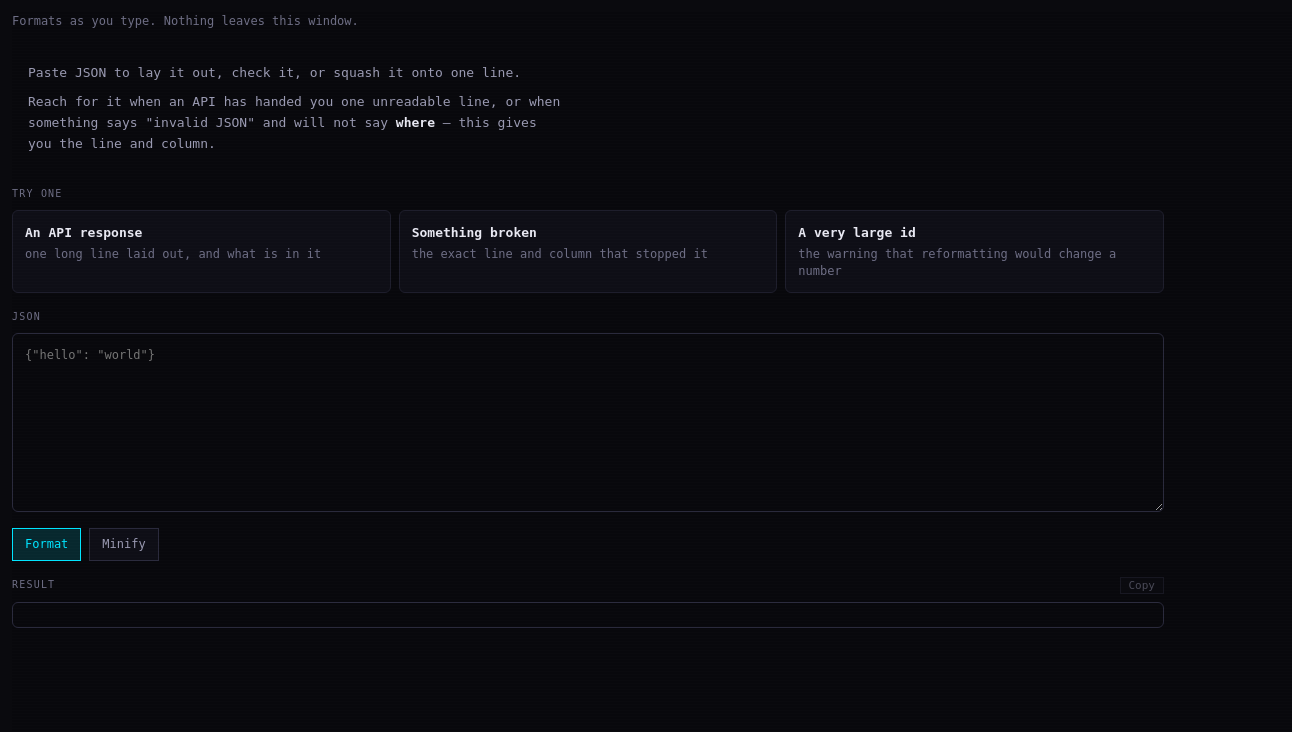
Scenario: JsonTool › minifies as well as formats
Click the text box labelled "JSON" at (588, 423), box [12,333,1164,512]
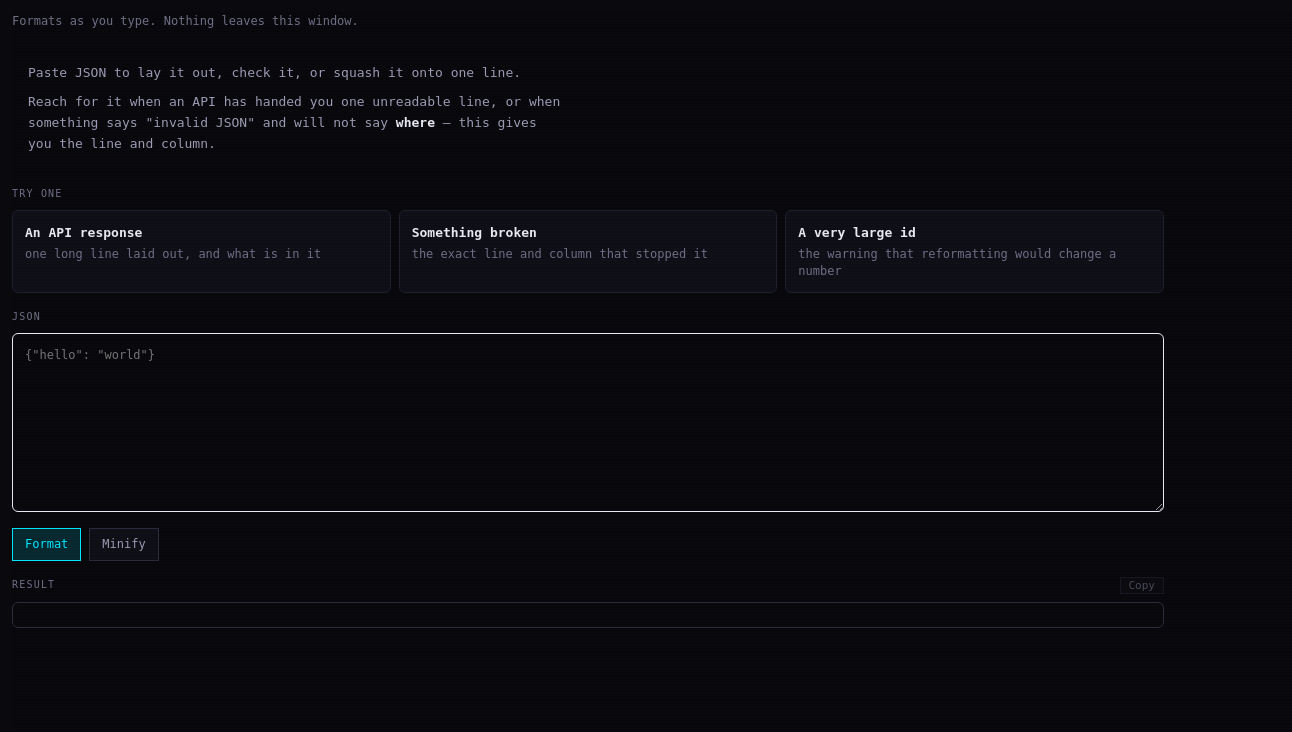
Type keys "{\"a\": 1}"
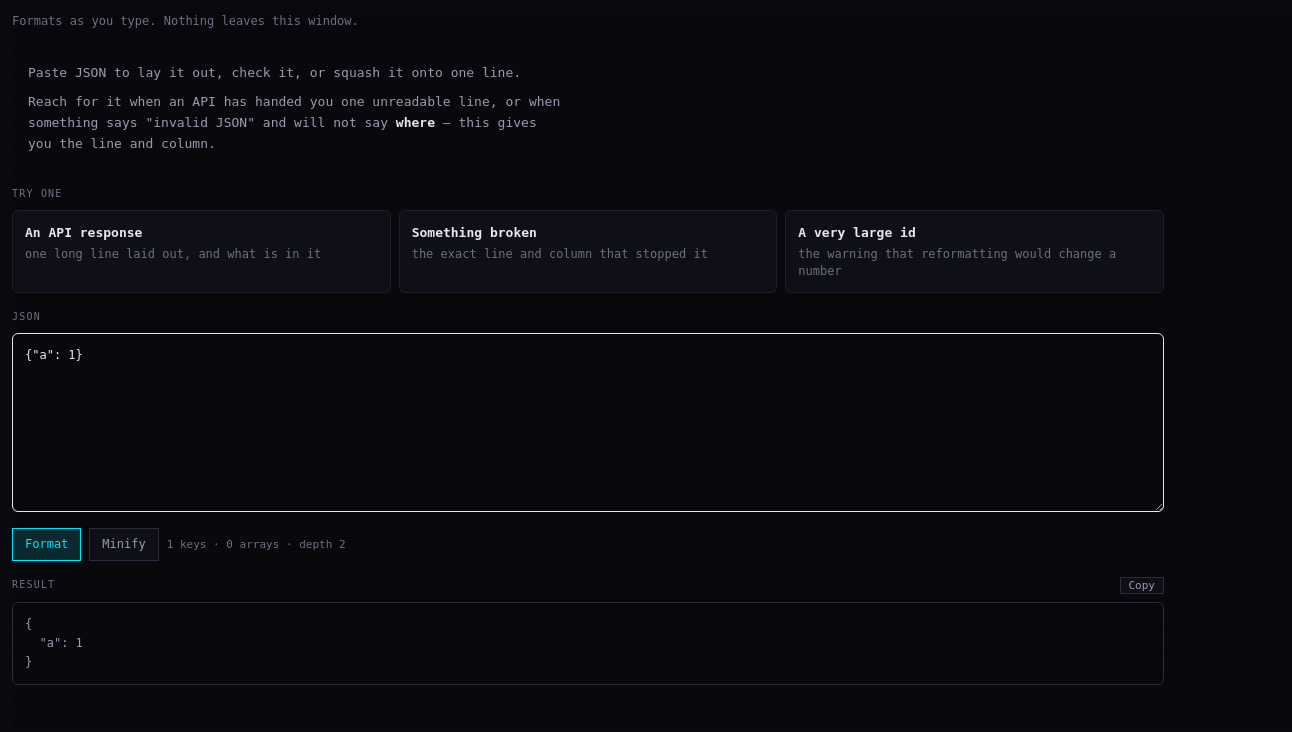
Click the button "Minify" at (124, 544), box [89,528,159,561]
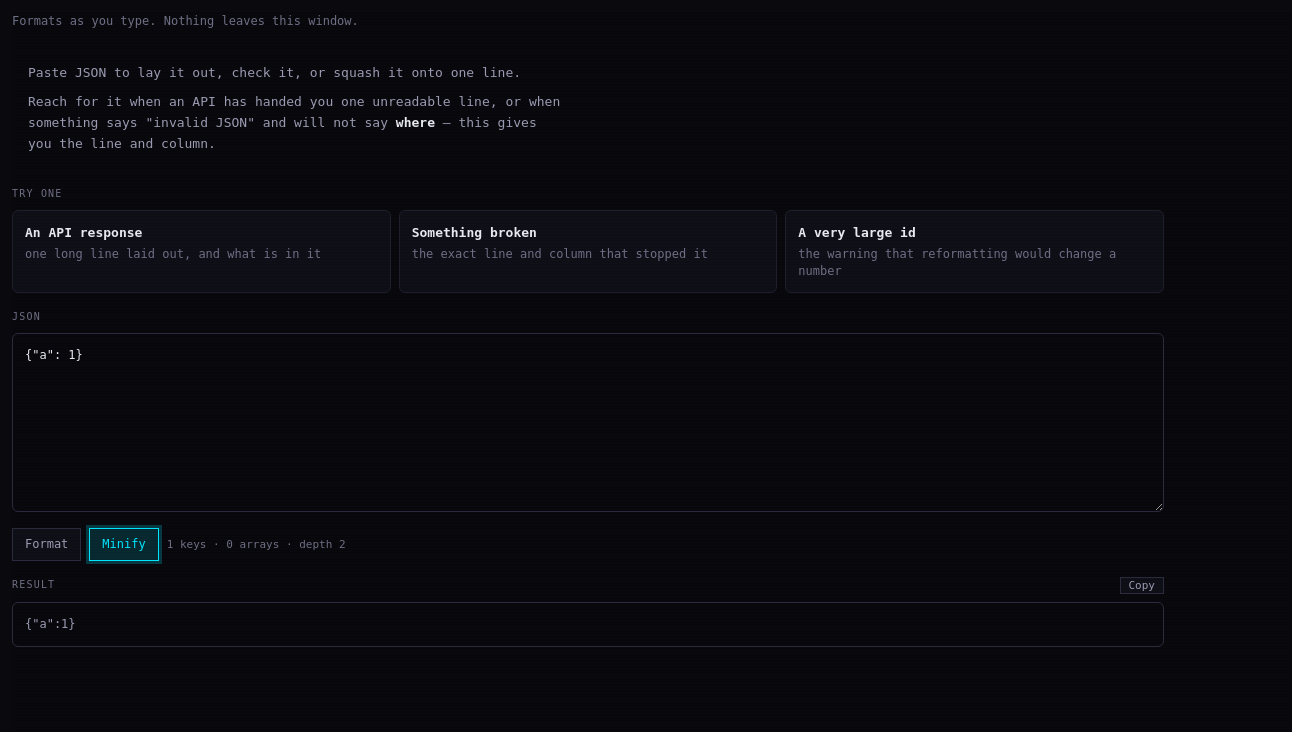
Result: the text "{\"a\":1}" is shown at [12,602,1164,647]
